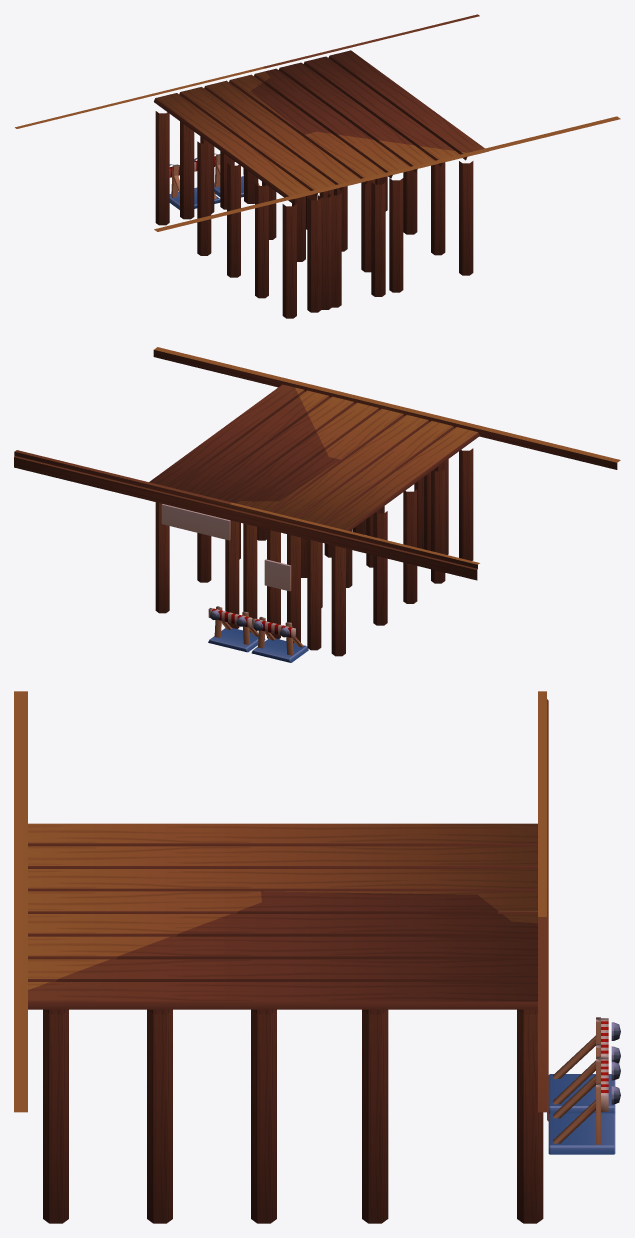
File: 1.100_SanFrancisco_gates_left.glb
3 views of the same model, one above another, from view 1: azimuth 30°, elevation 25°; view 2: azimuth 150°, elevation 25°; view 3: azimuth 270°, elevation 25° (orthographic). The views are drawn at different scales.
Visible parts, largest first — view 1: 1.100_SanFrancisco_gates_left; view 2: 1.100_SanFrancisco_gates_left; view 3: 1.100_SanFrancisco_gates_left.
Part boxes in pixels (x1,y1,x2,y2): 1.100_SanFrancisco_gates_left: (15,14,620,318); 1.100_SanFrancisco_gates_left: (14,347,620,662); 1.100_SanFrancisco_gates_left: (14,691,620,1223).
Size of the model in its own units: 214 by 56.06 by 130.
Materials: 2 (2 with a texture image).
